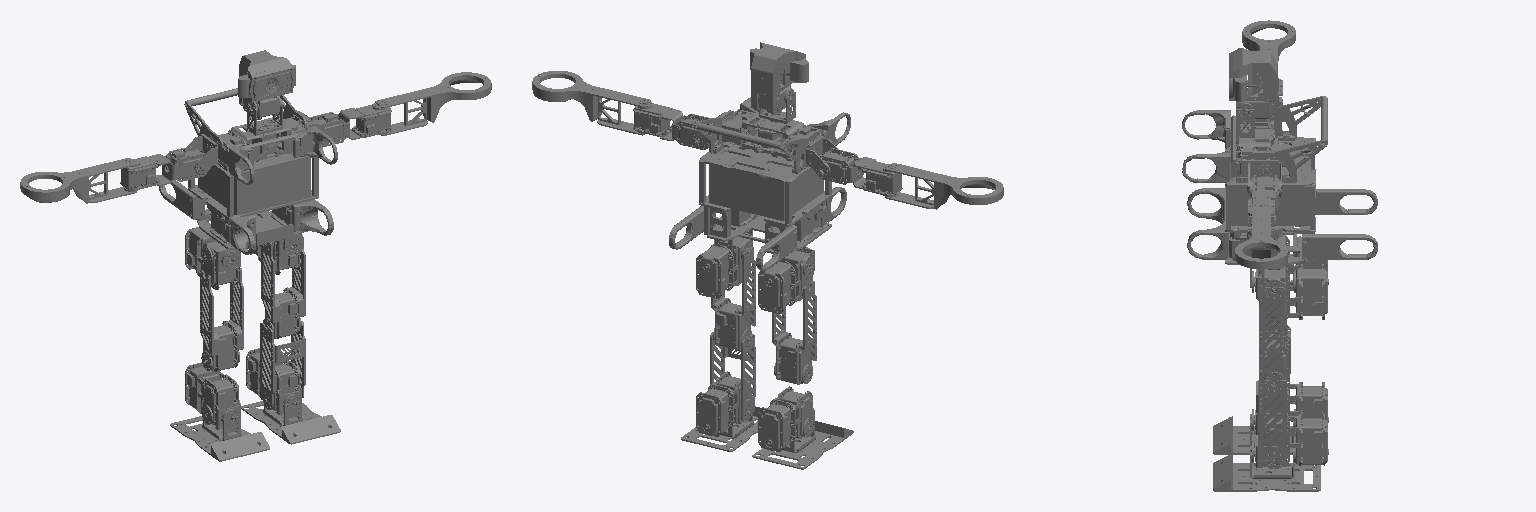
--- Facts derived from the render (not from the file) ---
3 views of the same robot in one strip: view 1: azimuth 30°, elevation 25°; view 2: azimuth 150°, elevation 25°; view 3: azimuth 270°, elevation 25° (orthographic).
Robot: hiro-urdf — 21 links, 20 joints (20 revolute); root link torso_kidsize25; default pose: every joint at zero.
Links seen in each view (by area): view 1: torso_kidsize25, foot_right_2, head, foot_left_2, left_lowerhand, foot_right_4, right_lowerhand, foot_right_5, right_upperhand, foot_left_5, foot_right_1, left_upperhand (+5 smaller); view 2: torso_kidsize25, head, foot_right_2, foot_right_4, left_lowerhand, right_lowerhand, foot_right_1, foot_left_2, right_upperhand, foot_left_4, foot_left_1, left_upperhand (+4 smaller); view 3: torso_kidsize25, head, foot_left_5, foot_left_1, foot_left_4, foot_left_2, foot_left_3, left_lowerhand, foot_right_4, foot_right_5, right_lowerhand, left_upperhand (+1 smaller).
Link boxes in pixels (box(x1,y1,x2,y2)): torso_kidsize25: box(159, 88, 337, 254); foot_right_2: box(200, 268, 243, 371); head: box(238, 50, 295, 119); foot_left_2: box(261, 235, 305, 338); left_lowerhand: box(375, 72, 491, 135); foot_right_4: box(185, 362, 240, 429); right_lowerhand: box(20, 158, 136, 203); foot_right_5: box(170, 416, 269, 461); right_upperhand: box(120, 146, 206, 191); foot_left_5: box(241, 401, 340, 444); foot_right_1: box(185, 227, 240, 289); left_upperhand: box(308, 102, 391, 146); torso_kidsize25: box(669, 97, 850, 270); head: box(750, 42, 808, 115); foot_right_2: box(772, 281, 816, 384); foot_right_4: box(758, 386, 814, 451); left_lowerhand: box(532, 71, 650, 135); right_lowerhand: box(885, 163, 1003, 209); foot_right_1: box(758, 247, 814, 313); foot_left_2: box(711, 245, 755, 350); right_upperhand: box(818, 148, 902, 197); foot_left_4: box(696, 371, 752, 436); foot_left_1: box(696, 233, 752, 298); left_upperhand: box(633, 101, 712, 149); torso_kidsize25: box(1182, 96, 1377, 264); head: box(1229, 48, 1277, 121); foot_left_5: box(1213, 446, 1320, 491); foot_left_1: box(1252, 267, 1328, 320); foot_left_4: box(1251, 413, 1328, 468); foot_left_2: box(1259, 287, 1289, 390); foot_left_3: box(1256, 380, 1286, 462); left_lowerhand: box(1235, 204, 1287, 269); foot_right_4: box(1251, 382, 1328, 434); foot_right_5: box(1213, 414, 1295, 454); right_lowerhand: box(1242, 20, 1295, 63); left_upperhand: box(1247, 175, 1280, 234).
Size in the robot's own frame: 0.7472 by 0.2572 by 0.5814 metres.
Meshes: 21 distinct files referenced, 19 mesh visuals loaded (19 binary STL); not drawn: 2 (reference not matched to a file when rendering).

The robot description file, URDF, robot "hiro-urdf":
<?xml version="1.0" ?>
<!-- Generated using onshape-to-robot -->
<robot name="hiro-urdf">
  <!-- Link torso_kidsize25 -->
  <link name="torso_kidsize25">
    <inertial>
      <origin xyz="-5.43423e-06 -0.0200969 0.0976927" rpy="0 0 0"/>
      <mass value="2.16719"/>
      <inertia ixx="0.00929033" ixy="-9.38024e-07" ixz="8.09787e-07" iyy="0.00982507" iyz="0.000706149" izz="0.00934245"/>
    </inertial>
    <!-- Part mx_64t_mir1 -->
    <collision>
      <origin xyz="0.0495 -0.0149156 0.0445065" rpy="1.14304e-14 2.1517e-13 -6.55847e-15"/>
      <geometry>
        <mesh filename="package://assets/mx_64t_mir1.stl"/>
      </geometry>
    </collision>
    <!-- Part mx_64t -->
    <collision>
      <origin xyz="-0.0495 -0.0149172 0.0445065" rpy="3.14159 -2.15281e-13 3.14159"/>
      <geometry>
        <mesh filename="package://assets/mx_64t.stl"/>
      </geometry>
    </collision>
    <!-- Part mx_28 -->
    <collision>
      <origin xyz="-0.0435004 -0.0845737 0.169212" rpy="-1.5708 -1.5708 0"/>
      <geometry>
        <mesh filename="package://assets/mx_28.stl"/>
      </geometry>
    </collision>
    <!-- Part mx_28_2 -->
    <collision>
      <origin xyz="-0.00781868 0.0207067 0.15592" rpy="-1.5708 -2.14948e-13 3.14159"/>
      <geometry>
        <mesh filename="package://assets/mx_28.stl"/>
      </geometry>
    </collision>
    <!-- Part mx_28_3 -->
    <collision>
      <origin xyz="0.0435004 -0.0845737 0.153401" rpy="-1.5708 1.5708 0"/>
      <geometry>
        <mesh filename="package://assets/mx_28.stl"/>
      </geometry>
    </collision>
    <!-- Part upper_floor -->
    <collision>
      <origin xyz="-0.064378 -0.0627188 0.140507" rpy="-1.5708 1.12084e-14 -1.5708"/>
      <geometry>
        <mesh filename="package://assets/upper_floor.stl"/>
      </geometry>
    </collision>
    <!-- Part 2nd_floor -->
    <collision>
      <origin xyz="0.064378 -0.0627188 0.0715065" rpy="1.5708 -1.14304e-14 1.5708"/>
      <geometry>
        <mesh filename="package://assets/2nd_floor.stl"/>
      </geometry>
    </collision>
    <!-- Part front_pillar -->
    <collision>
      <origin xyz="-0.072 0.0462822 0.0795065" rpy="1.5708 2.1517e-13 -6.55847e-15"/>
      <geometry>
        <mesh filename="package://assets/front_pillar.stl"/>
      </geometry>
    </collision>
    <!-- Part front_pillar_2 -->
    <collision>
      <origin xyz="0.072 0.0392822 0.0795065" rpy="1.5708 -2.1517e-13 3.14159"/>
      <geometry>
        <mesh filename="package://assets/front_pillar.stl"/>
      </geometry>
    </collision>
    <!-- Part front_pillar_3 -->
    <collision>
      <origin xyz="0.072 -0.0707178 0.0795065" rpy="1.5708 -2.15503e-13 3.14159"/>
      <geometry>
        <mesh filename="package://assets/front_pillar.stl"/>
      </geometry>
    </collision>
    <!-- Part front_pillar_4 -->
    <collision>
      <origin xyz="-0.072 -0.0637178 0.132507" rpy="-1.5708 1.09239e-14 -1.5708"/>
      <geometry>
        <mesh filename="package://assets/front_pillar.stl"/>
      </geometry>
    </collision>
    <!-- Part pcnel_exch -->
    <collision>
      <origin xyz="-1.36807e-13 -0.0142178 0.137507" rpy="-1.5708 1.09794e-14 -1.5708"/>
      <geometry>
        <mesh filename="package://assets/pcnel_exch.stl"/>
      </geometry>
    </collision>
    <!-- Part spacer_bracket_id_1_19_2_mir -->
    <collision>
      <origin xyz="0.0366867 -0.0407649 0.158268" rpy="1.5708 -2.15281e-13 3.14159"/>
      <geometry>
        <mesh filename="package://assets/spacer_bracket_id_1_19_2_mir.stl"/>
      </geometry>
    </collision>
    <!-- Part handle_bracket_kidsize -->
    <collision>
      <origin xyz="0.068 0.00858119 0.144507" rpy="-1.5708 1.12084e-14 -1.5708"/>
      <geometry>
        <mesh filename="package://assets/handle_bracket_kidsize.stl"/>
      </geometry>
    </collision>
    <!-- Part almi_5mm_bracket_servo_1_2_left -->
    <collision>
      <origin xyz="0.0411367 -0.0455112 0.163369" rpy="1.5708 -2.15281e-13 3.14159"/>
      <geometry>
        <mesh filename="package://assets/almi_5mm_bracket_servo_1_2_left.stl"/>
      </geometry>
    </collision>
    <!-- Part handle -->
    <collision>
      <origin xyz="1.14631e-14 0.0580812 0.197506" rpy="-3.14159 1.5708 0"/>
      <geometry>
        <mesh filename="package://assets/handle.stl"/>
      </geometry>
    </collision>
    <!-- Part holder_bumper_upper -->
    <collision>
      <origin xyz="-0.0667133 0.0621524 0.213757" rpy="1.5708 -2.15503e-13 3.14159"/>
      <geometry>
        <mesh filename="package://assets/holder_bumper_upper.stl"/>
      </geometry>
    </collision>
    <!-- Part handler_holder_siber -->
    <collision>
      <origin xyz="-0.0585 -0.0594188 0.102506" rpy="1.5708 -1.12084e-14 1.5708"/>
      <geometry>
        <mesh filename="package://assets/handler_holder_siber.stl"/>
      </geometry>
    </collision>
    <!-- Part bracket_1_2_lower_left -->
    <collision>
      <origin xyz="0.0664867 -0.0457677 0.165055" rpy="1.5708 2.15281e-13 -6.33643e-15"/>
      <geometry>
        <mesh filename="package://assets/bracket_1_2_lower_left.stl"/>
      </geometry>
    </collision>
    <!-- Part front_upper_bumper -->
    <collision>
      <origin xyz="-0.0712133 -0.0912838 0.160907" rpy="1.5708 2.15503e-13 -6.33643e-15"/>
      <geometry>
        <mesh filename="package://assets/front_upper_bumper.stl"/>
      </geometry>
    </collision>
    <!-- Part petg_5_19_mx28_seating -->
    <collision>
      <origin xyz="0.0124903 -0.0576838 0.147757" rpy="-1.5708 2.15392e-13 -6.33643e-15"/>
      <geometry>
        <mesh filename="package://assets/petg_5_19_mx28_seating.stl"/>
      </geometry>
    </collision>
    <!-- Part almi_5mm_bracket_servo_1_2 -->
    <collision>
      <origin xyz="-0.0411367 -0.0455112 0.163369" rpy="1.5708 2.15392e-13 -6.33643e-15"/>
      <geometry>
        <mesh filename="package://assets/almi_5mm_bracket_servo_1_2.stl"/>
      </geometry>
    </collision>
    <!-- Part spacer_bracket_id_1_19_2 -->
    <collision>
      <origin xyz="-0.0366867 -0.0407649 0.158268" rpy="1.5708 2.1517e-13 -6.33643e-15"/>
      <geometry>
        <mesh filename="package://assets/spacer_bracket_id_1_19_2.stl"/>
      </geometry>
    </collision>
    <!-- Part handler_holder_siber_2 -->
    <collision>
      <origin xyz="0.0685 -0.0594188 0.102506" rpy="1.5708 -1.12084e-14 1.5708"/>
      <geometry>
        <mesh filename="package://assets/handler_holder_siber.stl"/>
      </geometry>
    </collision>
    <!-- Part front_upper_bumper_mir -->
    <collision>
      <origin xyz="0.0709867 -0.0912838 0.160907" rpy="1.5708 -2.15503e-13 3.14159"/>
      <geometry>
        <mesh filename="package://assets/front_upper_bumper_mir.stl"/>
      </geometry>
    </collision>
    <!-- Part handle_bracket_kidsize_2 -->
    <collision>
      <origin xyz="-0.068 0.00858119 0.144507" rpy="-1.5708 9.8553e-15 -1.5708"/>
      <geometry>
        <mesh filename="package://assets/handle_bracket_kidsize.stl"/>
      </geometry>
    </collision>
    <!-- Part bracket_1_2_lower -->
    <collision>
      <origin xyz="-0.0664867 -0.0457677 0.165055" rpy="1.5708 -2.15281e-13 3.14159"/>
      <geometry>
        <mesh filename="package://assets/bracket_1_2_lower.stl"/>
      </geometry>
    </collision>
    <!-- Part bumper_front_lower_mir -->
    <collision>
      <origin xyz="0.0685 -0.0939156 0.0494707" rpy="1.5708 -2.14948e-13 3.14159"/>
      <geometry>
        <mesh filename="package://assets/bumper_front_lower_mir.stl"/>
      </geometry>
    </collision>
    <!-- Part spacer_106_64_mir2 -->
    <collision>
      <origin xyz="-0.0478366 -0.0405746 0.0615065" rpy="1.5708 -1.5708 0"/>
      <geometry>
        <mesh filename="package://assets/spacer_106_64_mir2.stl"/>
      </geometry>
    </collision>
    <!-- Part holder_lower_bracket_mir -->
    <collision>
      <origin xyz="0.0407975 -0.0654156 0.0911788" rpy="-1.5708 -2.14948e-13 3.14159"/>
      <geometry>
        <mesh filename="package://assets/holder_lower_bracket_mir.stl"/>
      </geometry>
    </collision>
    <!-- Part almi_2mm_floor_2nd__1 -->
    <collision>
      <origin xyz="-0.00365951 -0.0159644 0.0275065" rpy="6.55847e-15 1.5708 0"/>
      <geometry>
        <mesh filename="package://assets/almi_2mm_floor_2nd__1.stl"/>
      </geometry>
    </collision>
    <!-- Part spacer_106_64_mir2_mir -->
    <collision>
      <origin xyz="0.0478366 -0.040573 0.0615065" rpy="-1.5708 -1.5708 0"/>
      <geometry>
        <mesh filename="package://assets/spacer_106_64_mir2_mir.stl"/>
      </geometry>
    </collision>
    <!-- Part back_bumper -->
    <collision>
      <origin xyz="0.0647 0.0287838 0.0485065" rpy="1.5708 -1.14304e-14 1.5708"/>
      <geometry>
        <mesh filename="package://assets/back_bumper.stl"/>
      </geometry>
    </collision>
    <!-- Part xt_bracket -->
    <collision>
      <origin xyz="0.0308 0.0417838 0.0275065" rpy="-1.14304e-14 -2.15281e-13 3.14159"/>
      <geometry>
        <mesh filename="package://assets/xt_bracket.stl"/>
      </geometry>
    </collision>
    <!-- Part battery_holder -->
    <collision>
      <origin xyz="6.3411e-10 -0.0702162 0.0225065" rpy="1.5708 -1.14304e-14 1.5708"/>
      <geometry>
        <mesh filename="package://assets/battery_holder.stl"/>
      </geometry>
    </collision>
    <!-- Part back_bumper_2 -->
    <collision>
      <origin xyz="-0.0647 0.0287838 0.0485065" rpy="-1.5708 -1.14304e-14 1.5708"/>
      <geometry>
        <mesh filename="package://assets/back_bumper.stl"/>
      </geometry>
    </collision>
    <!-- Part bracket_back_bumper -->
    <collision>
      <origin xyz="0.0452 0.0307838 0.0495065" rpy="1.5708 -2.15281e-13 3.14159"/>
      <geometry>
        <mesh filename="package://assets/bracket_back_bumper.stl"/>
      </geometry>
    </collision>
    <!-- Part holder_lower_bracket -->
    <collision>
      <origin xyz="-0.0407975 -0.0654172 0.0911788" rpy="-1.5708 2.15281e-13 -6.55847e-15"/>
      <geometry>
        <mesh filename="package://assets/holder_lower_bracket.stl"/>
      </geometry>
    </collision>
    <!-- Part xt_bracket_2 -->
    <collision>
      <origin xyz="-0.0308 0.0377838 0.0275065" rpy="1.14304e-14 2.1517e-13 -6.55847e-15"/>
      <geometry>
        <mesh filename="package://assets/xt_bracket.stl"/>
      </geometry>
    </collision>
    <!-- Part bumper_front_lower -->
    <collision>
      <origin xyz="-0.0685 -0.0939172 0.0494707" rpy="1.5708 2.15281e-13 -6.55847e-15"/>
      <geometry>
        <mesh filename="package://assets/bumper_front_lower.stl"/>
      </geometry>
    </collision>
    <!-- Part bracket_back_bumper_mir -->
    <collision>
      <origin xyz="-0.0452 0.0307838 0.0495065" rpy="1.5708 2.1517e-13 -6.50154e-15"/>
      <geometry>
        <mesh filename="package://assets/bracket_back_bumper_mir.stl"/>
      </geometry>
    </collision>
    <!-- Part torso_kidsize25_parts -->
    <visual>
      <origin xyz="-5.43423e-06 -0.0200969 0.0976927" rpy="0 -0 0"/>
      <geometry>
        <mesh filename="package://assets/merged/torso_kidsize25_visual.stl"/>
      </geometry>
      <material name="torso_kidsize25_parts_material">
        <color rgba="0.55972 0.560028 0.558638 1"/>
      </material>
    </visual>
  </link>
  <!-- Link neck -->
  <link name="neck">
    <inertial>
      <origin xyz="2.39298e-07 1.20831e-17 0.00879985" rpy="0 0 0"/>
      <mass value="0.0128985"/>
      <inertia ixx="5.01235e-06" ixy="2.63324e-11" ixz="-9.38605e-13" iyy="2.39998e-06" iyz="1.16467e-21" izz="4.13467e-06"/>
    </inertial>
    <!-- Part almi_4mm_neck_bracket -->
    <collision>
      <origin xyz="0.0128945 -0.0185 0" rpy="1.5708 -0 -6.26583e-31"/>
      <geometry>
        <mesh filename="package://assets/almi_4mm_neck_bracket.stl"/>
      </geometry>
    </collision>
    <!-- Part carbon_2mm_neck_side_plate -->
    <collision>
      <origin xyz="5e-07 -0.0205 0.02" rpy="1.5708 -2.36658e-29 4.27969e-30"/>
      <geometry>
        <mesh filename="package://assets/carbon_2mm_neck_side_plate.stl"/>
      </geometry>
    </collision>
    <!-- Part carbon_2mm_neck_side_plate_2 -->
    <collision>
      <origin xyz="-2.77556e-17 0.0225 0.02" rpy="1.5708 -4.73317e-30 -1.0266e-29"/>
      <geometry>
        <mesh filename="package://assets/carbon_2mm_neck_side_plate.stl"/>
      </geometry>
    </collision>
    <!-- Part neck_parts -->
    <visual>
      <origin xyz="2.39298e-07 1.48807e-17 0.00879985" rpy="-1.12084e-14 -2.15281e-13 -1.5708"/>
      <geometry>
        <mesh filename="package://assets/merged/neck_visual.stl"/>
      </geometry>
      <material name="neck_parts_material">
        <color rgba="0.55972 0.560028 0.558638 1"/>
      </material>
    </visual>
  </link>
  <!-- Link head -->
  <link name="head">
    <inertial>
      <origin xyz="0.0315459 -0.00214801 0.0205645" rpy="0 0 0"/>
      <mass value="0.371554"/>
      <inertia ixx="0.000238323" ixy="4.47308e-05" ixz="-2.28198e-07" iyy="0.000308835" iyz="-2.79152e-07" izz="0.000217343"/>
    </inertial>
    <!-- Part petg_2mm_headbracket_old -->
    <collision>
      <origin xyz="-0.0064 0.0265 0.0386" rpy="1.5708 1.5708 0"/>
      <geometry>
        <mesh filename="package://assets/petg_2mm_headbracket_old.stl"/>
      </geometry>
    </collision>
    <!-- Part camera_logitech_c920_offset_2mm -->
    <collision>
      <origin xyz="0.0256 0.00182638 0.06759" rpy="1.5708 1.5708 0"/>
      <geometry>
        <mesh filename="package://assets/camera_logitech_c920_offset_2mm.stl"/>
      </geometry>
    </collision>
    <!-- Part camera_frame -->
    <collision>
      <origin xyz="0.0251 -0.0215 0.0535485" rpy="3.14159 1.3375e-27 1.5708"/>
      <geometry>
        <mesh filename="package://assets/camera_frame.stl"/>
      </geometry>
    </collision>
    <!-- Part mx_28_4 -->
    <collision>
      <origin xyz="0.0079054 0.0653899 0.0287863" rpy="1.5708 2.68506e-30 -4.03675e-31"/>
      <geometry>
        <mesh filename="package://assets/mx_28.stl"/>
      </geometry>
    </collision>
    <!-- Part petg_2mm_rotatingheadbracket -->
    <collision>
      <origin xyz="-0.0064 0.0265 0.0386" rpy="1.5708 1.5708 0"/>
      <geometry>
        <mesh filename="package://assets/petg_2mm_rotatingheadbracket.stl"/>
      </geometry>
    </collision>
    <!-- Part head_parts -->
    <visual>
      <origin xyz="0.0315459 -0.00214801 0.0205645" rpy="-5.50254e-14 1.5708 0"/>
      <geometry>
        <mesh filename="package://assets/merged/head_visual.stl"/>
      </geometry>
      <material name="head_parts_material">
        <color rgba="0.55972 0.560028 0.558638 1"/>
      </material>
    </visual>
  </link>
  <!-- Joint from neck to head -->
  <joint name="neck_pitch" type="revolute">
    <origin xyz="5e-07 -0.0205 0.037" rpy="-1.5708 -1.5708 0"/>
    <parent link="neck"/>
    <child link="head"/>
    <axis xyz="0 0 1"/>
    <limit effort="6" velocity="6.6" lower="-1.5708" upper="0.392699"/>
    <joint_properties friction="0.1"/>
  </joint>
  <!-- Joint from torso_kidsize25 to neck -->
  <joint name="neck_yaw" type="revolute">
    <origin xyz="8.67185e-05 -0.0446832 0.184707" rpy="2.15281e-13 -1.12084e-14 1.5708"/>
    <parent link="torso_kidsize25"/>
    <child link="neck"/>
    <axis xyz="0 0 1"/>
    <limit effort="6" velocity="6.6" lower="-3.14159" upper="3.14159"/>
    <joint_properties friction="0.1"/>
  </joint>
  <!-- Link almi2_view_6_7__arm_bracket -->
  <link name="almi2_view_6_7__arm_bracket">
    <inertial>
      <origin xyz="-9.36751e-17 0.00223841 -0.00829596" rpy="0 0 0"/>
      <mass value="0.0151289"/>
      <inertia ixx="2.57897e-06" ixy="3.24106e-38" ixz="6.75078e-37" iyy="5.57377e-06" iyz="4.04961e-07" izz="5.85595e-06"/>
    </inertial>
    <!-- Part almi2_view_6_7__arm_bracket -->
    <collision>
      <origin xyz="0.0185 -0.012 -0.002" rpy="1.5708 -8.00338e-32 0"/>
      <geometry>
        <mesh filename="package://assets/almi2_view_6_7__arm_bracket.stl"/>
      </geometry>
    </collision>
    <!-- Part almi2_view_6_7__arm_bracket_parts -->
    <visual>
      <origin xyz="-9.71445e-17 0.00223841 -0.00829596" rpy="1.5708 -1.5708 0"/>
      <geometry>
        <mesh filename="package://assets/merged/almi2_view_6_7__arm_bracket_visual.stl"/>
      </geometry>
      <material name="almi2_view_6_7__arm_bracket_parts_material">
        <color rgba="0.55972 0.560028 0.558638 1"/>
      </material>
    </visual>
  </link>
  <!-- Link right_upperhand -->
  <link name="right_upperhand">
    <inertial>
      <origin xyz="-4.16556e-05 -0.0497057 -0.0229115" rpy="0 0 0"/>
      <mass value="0.178"/>
      <inertia ixx="0.000293103" ixy="-7.35413e-07" ixz="-2.0111e-08" iyy="3.4849e-05" iyz="-1.67161e-05" izz="0.00029267"/>
    </inertial>
    <!-- Part mx_28_5 -->
    <collision>
      <origin xyz="0.00818918 -0.0341201 -0.0335054" rpy="1.5708 1.5708 0"/>
      <geometry>
        <mesh filename="package://assets/mx_28.stl"/>
      </geometry>
    </collision>
    <!-- Part mx_28_6 -->
    <collision>
      <origin xyz="0.0079054 -0.0653899 -0.0287863" rpy="-1.5708 -0 0"/>
      <geometry>
        <mesh filename="package://assets/mx_28.stl"/>
      </geometry>
    </collision>
    <!-- Part almi2_view_13__14__arm -->
    <collision>
      <origin xyz="-0.0819971 -0.058605 -0.0256" rpy="-1.11022e-16 -1.11022e-16 5.91311e-27"/>
      <geometry>
        <mesh filename="package://assets/almi2_view_13__14__arm.stl"/>
      </geometry>
    </collision>
    <!-- Part right_upperhand_parts -->
    <visual>
      <origin xyz="-4.16556e-05 -0.0497057 -0.0229115" rpy="-1.5708 6.44745e-15 1.5708"/>
      <geometry>
        <mesh filename="package://assets/merged/right_upperhand_visual.stl"/>
      </geometry>
      <material name="right_upperhand_parts_material">
        <color rgba="0.55972 0.560028 0.558638 1"/>
      </material>
    </visual>
  </link>
  <!-- Link right_lowerhand -->
  <link name="right_lowerhand">
    <inertial>
      <origin xyz="-0.00130389 -0.103918 0.0103596" rpy="0 0 0"/>
      <mass value="0.149258"/>
      <inertia ixx="0.000225269" ixy="-7.02224e-06" ixz="-1.20544e-07" iyy="5.61474e-05" iyz="-3.26703e-05" izz="0.000240431"/>
    </inertial>
    <!-- Part almi_4_5mm_connector_lower_arm_kidsize -->
    <collision>
      <origin xyz="0.00225 -0.0405 0" rpy="1.5708 1.11022e-16 -3.14159"/>
      <geometry>
        <mesh filename="package://assets/almi_4_5mm_connector_lower_arm_kidsize.stl"/>
      </geometry>
    </collision>
    <!-- Part carbon_2mm_arm_kidsize_1 -->
    <collision>
      <origin xyz="0 0 0" rpy="1.5708 1.5708 0"/>
      <geometry>
        <mesh filename="package://assets/carbon_2mm_arm_kidsize_1.stl"/>
      </geometry>
    </collision>
    <!-- Part tpu_arm_kidsize_telapak -->
    <collision>
      <origin xyz="2.60209e-17 -0.14 0.0728" rpy="1.5708 -1.11022e-16 4.9013e-29"/>
      <geometry>
        <mesh filename="package://assets/tpu_arm_kidsize_telapak.stl"/>
      </geometry>
    </collision>
    <!-- Part carbon_2mm_arm_kidsize_2 -->
    <collision>
      <origin xyz="2.94903e-17 8.32667e-17 0.043" rpy="-4.85829e-29 1.5708 0"/>
      <geometry>
        <mesh filename="package://assets/carbon_2mm_arm_kidsize_2.stl"/>
      </geometry>
    </collision>
    <!-- Part right_lowerhand_parts -->
    <visual>
      <origin xyz="-0.00130389 -0.103918 0.0103596" rpy="3.14159 8.42749e-14 1.5708"/>
      <geometry>
        <mesh filename="package://assets/merged/right_lowerhand_visual.stl"/>
      </geometry>
      <material name="right_lowerhand_parts_material">
        <color rgba="0.55972 0.560028 0.558638 1"/>
      </material>
    </visual>
  </link>
  <!-- Joint from right_upperhand to right_lowerhand -->
  <joint name="right_elbow" type="revolute">
    <origin xyz="-0.0205971 -0.09951 -0.0256" rpy="-5.89437e-27 1.5708 0"/>
    <parent link="right_upperhand"/>
    <child link="right_lowerhand"/>
    <axis xyz="0 0 1"/>
    <limit effort="6" velocity="6.6" lower="-2.35619" upper="2.35619"/>
    <joint_properties friction="0.1"/>
  </joint>
  <!-- Joint from almi2_view_6_7__arm_bracket to right_upperhand -->
  <joint name="right_shoulder_roll" type="revolute">
    <origin xyz="0.0205 0.0147498 -0.0268034" rpy="1.5708 -1.30895e-13 1.5708"/>
    <parent link="almi2_view_6_7__arm_bracket"/>
    <child link="right_upperhand"/>
    <axis xyz="0 0 1"/>
    <limit effort="6" velocity="6.6" lower="-0.785398" upper="2.35619"/>
    <joint_properties friction="0.1"/>
  </joint>
  <!-- Joint from torso_kidsize25 to almi2_view_6_7__arm_bracket -->
  <joint name="right_shoulder_pitch" type="revolute">
    <origin xyz="-0.0722867 -0.0191838 0.161307" rpy="-1.5708 1.08614e-14 -1.5708"/>
    <parent link="torso_kidsize25"/>
    <child link="almi2_view_6_7__arm_bracket"/>
    <axis xyz="0 0 1"/>
    <limit effort="6" velocity="6.6" lower="-3.14159" upper="3.14159"/>
    <joint_properties friction="0.1"/>
  </joint>
  <!-- Link almi2_view_6_7__arm_bracket_2 -->
  <link name="almi2_view_6_7__arm_bracket_2">
    <inertial>
      <origin xyz="-1.00614e-16 -0.00223841 0.00829596" rpy="0 0 0"/>
      <mass value="0.0151289"/>
      <inertia ixx="2.57897e-06" ixy="-1.13759e-37" ixz="-2.36947e-36" iyy="5.57377e-06" iyz="4.04961e-07" izz="5.85595e-06"/>
    </inertial>
    <!-- Part almi2_view_6_7__arm_bracket_2 -->
    <collision>
      <origin xyz="0.0185 0.012 0.002" rpy="-1.5708 2.80912e-31 0"/>
      <geometry>
        <mesh filename="package://assets/almi2_view_6_7__arm_bracket.stl"/>
      </geometry>
    </collision>
    <!-- Part almi2_view_6_7__arm_bracket_2_parts -->
    <visual>
      <origin xyz="-1.04083e-16 -0.00223841 0.00829596" rpy="-1.5708 -1.5708 0"/>
      <geometry>
        <mesh filename="package://assets/merged/almi2_view_6_7__arm_bracket_2_visual.stl"/>
      </geometry>
      <material name="almi2_view_6_7__arm_bracket_2_parts_material">
        <color rgba="0.55972 0.560028 0.558638 1"/>
      </material>
    </visual>
  </link>
  <!-- Link left_upperhand -->
  <link name="left_upperhand">
    <inertial>
      <origin xyz="-0.0497057 -4.16564e-05 -0.0182021" rpy="0 0 0"/>
      <mass value="0.178"/>
      <inertia ixx="3.47766e-05" ixy="-7.35406e-07" ixz="1.52286e-05" iyy="0.00029303" iyz="1.94701e-08" izz="0.00029267"/>
    </inertial>
    <!-- Part mx_28_7 -->
    <collision>
      <origin xyz="-0.0341201 0.00818918 -0.0076946" rpy="1.18905e-13 -1.5708 0"/>
      <geometry>
        <mesh filename="package://assets/mx_28.stl"/>
      </geometry>
    </collision>
    <!-- Part almi2_view_13__14__arm_2 -->
    <collision>
      <origin xyz="-0.058605 -0.0819971 -0.0156" rpy="3.14159 3.33067e-16 1.5708"/>
      <geometry>
        <mesh filename="package://assets/almi2_view_13__14__arm.stl"/>
      </geometry>
    </collision>
    <!-- Part mx_28_8 -->
    <collision>
      <origin xyz="-0.0653899 -0.0079054 -0.0287863" rpy="-1.5708 1.11022e-16 -1.5708"/>
      <geometry>
        <mesh filename="package://assets/mx_28.stl"/>
      </geometry>
    </collision>
    <!-- Part left_upperhand_parts -->
    <visual>
      <origin xyz="-0.0497057 -4.16564e-05 -0.0182021" rpy="-1.5708 6.33643e-15 -3.14159"/>
      <geometry>
        <mesh filename="package://assets/merged/left_upperhand_visual.stl"/>
      </geometry>
      <material name="left_upperhand_parts_material">
        <color rgba="0.55972 0.560028 0.558638 1"/>
      </material>
    </visual>
  </link>
  <!-- Link left_lowerhand -->
  <link name="left_lowerhand">
    <inertial>
      <origin xyz="-0.00130389 0.103918 -0.0103596" rpy="0 0 0"/>
      <mass value="0.149258"/>
      <inertia ixx="0.000225269" ixy="7.02224e-06" ixz="1.20544e-07" iyy="5.61474e-05" iyz="-3.26703e-05" izz="0.000240431"/>
    </inertial>
    <!-- Part carbon_2mm_arm_kidsize_1_2 -->
    <collision>
      <origin xyz="-2.08167e-17 2.77556e-17 8.32667e-17" rpy="-1.5708 -1.5708 0"/>
      <geometry>
        <mesh filename="package://assets/carbon_2mm_arm_kidsize_1.stl"/>
      </geometry>
    </collision>
    <!-- Part tpu_arm_kidsize_telapak_2 -->
    <collision>
      <origin xyz="5.89806e-17 0.14 -0.0728" rpy="-1.5708 1.11022e-16 -7.07767e-16"/>
      <geometry>
        <mesh filename="package://assets/tpu_arm_kidsize_telapak.stl"/>
      </geometry>
    </collision>
    <!-- Part almi_4_5mm_connector_lower_arm_kidsize_2 -->
    <collision>
      <origin xyz="0.00225 0.0405 -5.55112e-17" rpy="-1.5708 -1.11022e-16 3.14159"/>
      <geometry>
        <mesh filename="package://assets/almi_4_5mm_connector_lower_arm_kidsize.stl"/>
      </geometry>
    </collision>
    <!-- Part carbon_2mm_arm_kidsize_2_2 -->
    <collision>
      <origin xyz="-1.21431e-16 5.55112e-17 -0.043" rpy="3.14159 -1.5708 0"/>
      <geometry>
        <mesh filename="package://assets/carbon_2mm_arm_kidsize_2.stl"/>
      </geometry>
    </collision>
    <!-- Part left_lowerhand_parts -->
    <visual>
      <origin xyz="-0.00130389 0.103918 -0.0103596" rpy="-1.05839e-14 -9.63764e-14 1.5708"/>
      <geometry>
        <mesh filename="package://assets/merged/left_lowerhand_visual.stl"/>
      </geometry>
      <material name="left_lowerhand_parts_material">
        <color rgba="0.55972 0.560028 0.558638 1"/>
      </material>
    </visual>
  </link>
  <!-- Joint from left_upperhand to left_lowerhand -->
  <joint name="left_elbow" type="revolute">
    <origin xyz="-0.09951 -0.0205971 -0.0156" rpy="1.5708 -1.5708 0"/>
    <parent link="left_upperhand"/>
    <child link="left_lowerhand"/>
    <axis xyz="0 0 1"/>
    <limit effort="6" velocity="6.6" lower="-2.35619" upper="2.35619"/>
    <joint_properties friction="0.1"/>
  </joint>
  <!-- Joint from almi2_view_6_7__arm_bracket_2 to left_upperhand -->
  <joint name="left_shoulder_roll" type="revolute">
    <origin xyz="-0.0205 -0.0147498 0.0268034" rpy="-3.14159 1.5708 0"/>
    <parent link="almi2_view_6_7__arm_bracket_2"/>
    <child link="left_upperhand"/>
    <axis xyz="0 0 1"/>
    <limit effort="6" velocity="6.6" lower="-2.35619" upper="0.785398"/>
    <joint_properties friction="0.1"/>
  </joint>
  <!-- Joint from torso_kidsize25 to almi2_view_6_7__arm_bracket_2 -->
  <joint name="left_shoulder_pitch" type="revolute">
    <origin xyz="0.0722867 -0.0191838 0.161307" rpy="1.5708 -1.05839e-14 1.5708"/>
    <parent link="torso_kidsize25"/>
    <child link="almi2_view_6_7__arm_bracket_2"/>
    <axis xyz="0 0 1"/>
    <limit effort="6" velocity="6.6" lower="-3.14159" upper="3.14159"/>
    <joint_properties friction="0.1"/>
  </joint>
  <!-- Link stainless_steel_2mm_upper_leg_bracket -->
  <link name="stainless_steel_2mm_upper_leg_bracket">
    <inertial>
      <origin xyz="-0.00421162 -1.80642e-07 -0.00839045" rpy="0 0 0"/>
      <mass value="0.0521561"/>
      <inertia ixx="1.13163e-05" ixy="-2.66522e-10" ixz="-2.03733e-07" iyy="2.97089e-05" iyz="3.66542e-11" izz="2.98236e-05"/>
    </inertial>
    <!-- Part stainless_steel_2mm_upper_leg_bracket -->
    <collision>
      <origin xyz="-0.03298 0.016 0" rpy="3.14159 -0 2.99322e-31"/>
      <geometry>
        <mesh filename="package://assets/stainless_steel_2mm_upper_leg_bracket.stl"/>
      </geometry>
    </collision>
    <!-- Part stainless_steel_2mm_upper_leg_bracket_parts -->
    <visual>
      <origin xyz="-0.00421162 -1.80642e-07 -0.00839045" rpy="-1.14304e-14 -2.15281e-13 1.5708"/>
      <geometry>
        <mesh filename="package://assets/merged/stainless_steel_2mm_upper_leg_bracket_visual.stl"/>
      </geometry>
      <material name="stainless_steel_2mm_upper_leg_bracket_parts_material">
        <color rgba="0.55972 0.560028 0.558638 1"/>
      </material>
    </visual>
  </link>
  <!-- Link foot_right_1 -->
  <link name="foot_right_1">
    <inertial>
      <origin xyz="-0.000121825 -0.0144674 0.00397654" rpy="0 0 0"/>
      <mass value="0.292396"/>
      <inertia ixx="0.000302471" ixy="-1.95767e-07" ixz="7.69534e-07" iyy="0.00026243" iyz="-1.25976e-05" izz="0.000113113"/>
    </inertial>
    <!-- Part mx_64t_2 -->
    <collision>
      <origin xyz="6.93889e-18 0 -0.0235" rpy="0 3.82774e-32 0"/>
      <geometry>
        <mesh filename="package://assets/mx_64t_2.stl"/>
      </geometry>
    </collision>
    <!-- Part almi_2mm_fr05_f101k_set -->
    <collision>
      <origin xyz="-1.38778e-17 -5.37764e-17 0.04958" rpy="-1.5708 -9.12541e-28 1.5708"/>
      <geometry>
        <mesh filename="package://assets/almi_2mm_fr05_f101k_set.stl"/>
      </geometry>
    </collision>
    <!-- Part almi_2mm_connector_mx64 -->
    <collision>
      <origin xyz="-0.019 -0.043 0.01058" rpy="-1.28509e-27 -6.31089e-30 -1.5708"/>
      <geometry>
        <mesh filename="package://assets/almi_2mm_connector_mx64.stl"/>
      </geometry>
    </collision>
    <!-- Part almi_2mm_connector_mx64_2 -->
    <collision>
      <origin xyz="0.019 -0.015 0.01058" rpy="1.29061e-27 6.31089e-30 1.5708"/>
      <geometry>
        <mesh filename="package://assets/almi_2mm_connector_mx64.stl"/>
      </geometry>
    </collision>
    <!-- Part fr05_f101k_set -->
    <collision>
      <origin xyz="-2.91434e-16 0 0.04938" rpy="-2.22045e-16 9.12541e-28 -1.5708"/>
      <geometry>
        <mesh filename="package://assets/fr05_f101k_set.stl"/>
      </geometry>
    </collision>
    <!-- Part mx_64t_2_2 -->
    <collision>
      <origin xyz="1.38778e-17 -5.0307e-17 0.02558" rpy="1.89327e-27 1.5708 0"/>
      <geometry>
        <mesh filename="package://assets/mx_64t_2.stl"/>
      </geometry>
    </collision>
    <!-- Part mf128zz_1 -->
    <collision>
      <origin xyz="-2.77556e-16 -1.73472e-18 0.0516" rpy="1.5708 -9.11615e-28 1.5708"/>
      <geometry>
        <mesh filename="package://assets/mf128zz_1.stl"/>
      </geometry>
    </collision>
    <!-- Part rx64_cap_1 -->
    <collision>
      <origin xyz="-2.56739e-16 1.04083e-17 0.05508" rpy="2.22045e-16 -8.99919e-28 1.5708"/>
      <geometry>
        <mesh filename="package://assets/rx64_cap_1.stl"/>
      </geometry>
    </collision>
    <!-- Part hn05_i101_1 -->
    <collision>
      <origin xyz="-2.56739e-16 -1.56125e-17 0.05532" rpy="1.5708 -9.04035e-28 1.5708"/>
      <geometry>
        <mesh filename="package://assets/hn05_i101_1.stl"/>
      </geometry>
    </collision>
    <!-- Part rx64_cap_1_2 -->
    <collision>
      <origin xyz="-0.0232 -5.37764e-17 0.02558" rpy="-3.14159 1.5708 0"/>
      <geometry>
        <mesh filename="package://assets/rx64_cap_1.stl"/>
      </geometry>
    </collision>
    <!-- Part hn05_i101_1_2 -->
    <collision>
      <origin xyz="-0.02344 -4.85723e-17 0.02558" rpy="-1.5708 1.5708 0"/>
      <geometry>
        <mesh filename="package://assets/hn05_i101_1.stl"/>
      </geometry>
    </collision>
    <!-- Part mf128zz_1_2 -->
    <collision>
      <origin xyz="-0.01972 -3.81639e-17 0.02558" rpy="-1.5708 1.5708 0"/>
      <geometry>
        <mesh filename="package://assets/mf128zz_1.stl"/>
      </geometry>
    </collision>
    <!-- Part foot_right_1_parts -->
    <visual>
      <origin xyz="-0.000121825 -0.0144674 0.00397654" rpy="-1.5708 5.82295e-15 9.22685e-14"/>
      <geometry>
        <mesh filename="package://assets/merged/foot_right_1_visual.stl"/>
      </geometry>
      <material name="foot_right_1_parts_material">
        <color rgba="0.55972 0.560028 0.558638 1"/>
      </material>
    </visual>
  </link>
  <!-- Link foot_right_2 -->
  <link name="foot_right_2">
    <inertial>
      <origin xyz="0.00189202 0.0890217 -0.0236304" rpy="0 0 0"/>
      <mass value="0.273181"/>
      <inertia ixx="0.00054925" ixy="3.23355e-06" ixz="-6.73937e-08" iyy="0.000131243" iyz="8.86444e-07" izz="0.000472641"/>
    </inertial>
    <!-- Part stainless_steel_2mm__femur -->
    <collision>
      <origin xyz="-0.014 0.07746 -0.047" rpy="-1.5708 8.32667e-17 4.85723e-17"/>
      <geometry>
        <mesh filename="package://assets/stainless_steel_2mm__femur.stl"/>
      </geometry>
    </collision>
    <!-- Part stainless_steel_2mm__femur_2 -->
    <collision>
      <origin xyz="-0.014 0.07746 0.003" rpy="-1.5708 -8.73155e-32 0"/>
      <geometry>
        <mesh filename="package://assets/stainless_steel_2mm__femur.stl"/>
      </geometry>
    </collision>
    <!-- Part almi_6_5mm_l_mx64 -->
    <collision>
      <origin xyz="-0.0134121 0.0859 -0.047" rpy="1.5708 -2.77556e-16 -3.14159"/>
      <geometry>
        <mesh filename="package://assets/almi_6_5mm_l_mx64.stl"/>
      </geometry>
    </collision>
    <!-- Part almi_6_5mm_l_mx64_2 -->
    <collision>
      <origin xyz="-0.0134121 0.0859 -0.0065" rpy="1.5708 -7.21645e-16 -3.14159"/>
      <geometry>
        <mesh filename="package://assets/almi_6_5mm_l_mx64.stl"/>
      </geometry>
    </collision>
    <!-- Part mx_64t_1 -->
    <collision>
      <origin xyz="-6.45317e-16 0.134 -0.0235" rpy="2.08167e-16 7.21645e-16 6.52256e-16"/>
      <geometry>
        <mesh filename="package://assets/mx_64t_1.stl"/>
      </geometry>
    </collision>
    <!-- Part hn05_i101 -->
    <collision>
      <origin xyz="-5.91541e-16 0.134 -0.04694" rpy="-1.5708 8.88178e-16 1.5708"/>
      <geometry>
        <mesh filename="package://assets/hn05_i101.stl"/>
      </geometry>
    </collision>
    <!-- Part mf128zz -->
    <collision>
      <origin xyz="-6.13225e-16 0.134 -0.04322" rpy="-1.5708 9.15934e-16 1.5708"/>
      <geometry>
        <mesh filename="package://assets/mf128zz.stl"/>
      </geometry>
    </collision>
    <!-- Part rx64_cap -->
    <collision>
      <origin xyz="-6.21031e-16 0.134 -0.0467" rpy="-3.14159 -2.08167e-16 1.5708"/>
      <geometry>
        <mesh filename="package://assets/rx64_cap.stl"/>
      </geometry>
    </collision>
    <!-- Part foot_right_2_parts -->
    <visual>
      <origin xyz="0.00189202 0.0890217 -0.0236304" rpy="1.5708 -1.5708 0"/>
      <geometry>
        <mesh filename="package://assets/merged/foot_right_2_visual.stl"/>
      </geometry>
      <material name="foot_right_2_parts_material">
        <color rgba="0.55972 0.560028 0.558638 1"/>
      </material>
    </visual>
  </link>
  <!-- Link foot_right_3 -->
  <link name="foot_right_3">
    <inertial>
      <origin xyz="0.00350206 0.0535427 -0.0235017" rpy="0 0 0"/>
      <mass value="0.157154"/>
      <inertia ixx="0.000266743" ixy="8.33375e-06" ixz="5.26492e-09" iyy="0.000115972" iyz="-6.48605e-09" izz="0.000200186"/>
    </inertial>
    <!-- Part stainless_steel_2mm_leg_spacer -->
    <collision>
      <origin xyz="0.024 0.0190814 -0.045" rpy="-9.76083e-30 -2.22045e-16 1.5708"/>
      <geometry>
        <mesh filename="package://assets/stainless_steel_2mm_leg_spacer.stl"/>
      </geometry>
    </collision>
    <!-- Part stainless_steel_2mm_shinebone -->
    <collision>
      <origin xyz="0.0135 0.0197269 -0.05" rpy="1.5708 5.55112e-16 3.1225e-16"/>
      <geometry>
        <mesh filename="package://assets/stainless_steel_2mm_shinebone.stl"/>
      </geometry>
    </collision>
    <!-- Part stainless_steel_2mm_shinebone_2 -->
    <collision>
      <origin xyz="0.0135 0.0197269 0" rpy="1.5708 3.69832e-31 0"/>
      <geometry>
        <mesh filename="package://assets/stainless_steel_2mm_shinebone.stl"/>
      </geometry>
    </collision>
    <!-- Part foot_right_3_parts -->
    <visual>
      <origin xyz="0.00350206 0.0535427 -0.0235017" rpy="1.5708 -1.5708 0"/>
      <geometry>
        <mesh filename="package://assets/merged/foot_right_3_visual.stl"/>
      </geometry>
      <material name="foot_right_3_parts_material">
        <color rgba="0.55972 0.560028 0.558638 1"/>
      </material>
    </visual>
  </link>
  <!-- Link foot_right_4 -->
  <link name="foot_right_4">
    <inertial>
      <origin xyz="-0.0215978 -0.0144558 -0.0236219" rpy="0 0 0"/>
      <mass value="0.292143"/>
      <inertia ixx="0.000112946" ixy="-1.25976e-05" ixz="7.69336e-07" iyy="0.000262476" iyz="-2.05088e-07" izz="0.000302507"/>
    </inertial>
    <!-- Part mx_64t_3 -->
    <collision>
      <origin xyz="-0.04908 0 -0.0235" rpy="-1.18472e-29 1.5708 0"/>
      <geometry>
        <mesh filename="package://assets/mx_64t_3.stl"/>
      </geometry>
    </collision>
    <!-- Part fr05_f101k_set_1 -->
    <collision>
      <origin xyz="0.024 -4.58208e-05 -0.0235" rpy="-1.5708 2.04415e-29 -1.5708"/>
      <geometry>
        <mesh filename="package://assets/fr05_f101k_set_1.stl"/>
      </geometry>
    </collision>
    <!-- Part almi_2mm_connector_mx64_1 -->
    <collision>
      <origin xyz="-0.015 -0.015 -0.0425" rpy="1.5708 2.31994e-28 1.5708"/>
      <geometry>
        <mesh filename="package://assets/almi_2mm_connector_mx64_1.stl"/>
      </geometry>
    </collision>
    <!-- Part almi_2mm_connector_mx64_1_2 -->
    <collision>
      <origin xyz="-0.015 -0.043 -0.0045" rpy="-1.5708 2.04415e-29 -1.5708"/>
      <geometry>
        <mesh filename="package://assets/almi_2mm_connector_mx64_1.stl"/>
      </geometry>
    </collision>
    <!-- Part mx_64t_3_2 -->
    <collision>
      <origin xyz="0 0 -0.0235" rpy="4.80204e-30 -2.18676e-31 -7.74535e-31"/>
      <geometry>
        <mesh filename="package://assets/mx_64t_3.stl"/>
      </geometry>
    </collision>
    <!-- Part almi_2mm_fr05_f101k_set_1 -->
    <collision>
      <origin xyz="0.024 0 -0.0235" rpy="-2.22045e-16 -2.04415e-29 1.5708"/>
      <geometry>
        <mesh filename="package://assets/almi_2mm_fr05_f101k_set_1.stl"/>
      </geometry>
    </collision>
    <!-- Part hn05_i101_2 -->
    <collision>
      <origin xyz="4.25007e-17 0 -0.04694" rpy="-1.5708 2.91434e-16 7.63278e-17"/>
      <geometry>
        <mesh filename="package://assets/hn05_i101_2.stl"/>
      </geometry>
    </collision>
    <!-- Part mf128zz_2 -->
    <collision>
      <origin xyz="1.82146e-17 -5.55112e-17 -0.04322" rpy="-1.5708 2.08167e-16 1.80411e-16"/>
      <geometry>
        <mesh filename="package://assets/mf128zz_2.stl"/>
      </geometry>
    </collision>
    <!-- Part rx64_cap_2 -->
    <collision>
      <origin xyz="1.38778e-17 -5.55112e-17 -0.0467" rpy="-3.14159 2.35922e-16 -6.93889e-17"/>
      <geometry>
        <mesh filename="package://assets/rx64_cap_2.stl"/>
      </geometry>
    </collision>
    <!-- Part mf128zz_2_2 -->
    <collision>
      <origin xyz="0.02622 -4.58208e-05 -0.0235" rpy="2.22045e-16 2.52435e-29 -1.5708"/>
      <geometry>
        <mesh filename="package://assets/mf128zz_2.stl"/>
      </geometry>
    </collision>
    <!-- Part hn05_i101_2_2 -->
    <collision>
      <origin xyz="0.02994 -4.58208e-05 -0.0235" rpy="2.22045e-16 2.04415e-29 -1.5708"/>
      <geometry>
        <mesh filename="package://assets/hn05_i101_2.stl"/>
      </geometry>
    </collision>
    <!-- Part rx64_cap_2_2 -->
    <collision>
      <origin xyz="0.0297 -4.58208e-05 -0.0235" rpy="-1.5708 4.56851e-29 -1.5708"/>
      <geometry>
        <mesh filename="package://assets/rx64_cap_2.stl"/>
      </geometry>
    </collision>
    <!-- Part foot_right_4_parts -->
    <visual>
      <origin xyz="-0.0215978 -0.0144558 -0.0236219" rpy="1.5708 -1.5708 0"/>
      <geometry>
        <mesh filename="package://assets/merged/foot_right_4_visual.stl"/>
      </geometry>
      <material name="foot_right_4_parts_material">
        <color rgba="0.55972 0.560028 0.558638 1"/>
      </material>
    </visual>
  </link>
  <!-- Link foot_right_5 -->
  <link name="foot_right_5">
    <inertial>
      <origin xyz="-0.00431494 -0.027932 0.0410276" rpy="0 0 0"/>
      <mass value="0.132192"/>
      <inertia ixx="0.000177533" ixy="-1.91248e-06" ixz="5.63401e-06" iyy="0.000221544" iyz="8.6074e-07" izz="6.06598e-05"/>
    </inertial>
    <!-- Part pla_50__shoes -->
    <collision>
      <origin xyz="-0.04925 -0.032 0.10376" rpy="-2.27192e-28 -1.5708 0"/>
      <geometry>
        <mesh filename="package://assets/pla_50__shoes.stl"/>
      </geometry>
    </collision>
    <!-- Part almi_2mm_lower_leg -->
    <collision>
      <origin xyz="-0.00775 -0.032 0.02876" rpy="-3.14159 1.5708 0"/>
      <geometry>
        <mesh filename="package://assets/almi_2mm_lower_leg.stl"/>
      </geometry>
    </collision>
    <!-- Part stainless_steel_2mm_lower_leg_bracket -->
    <collision>
      <origin xyz="-0.016 -0.032 0.00052" rpy="-1.5708 -1.5708 0"/>
      <geometry>
        <mesh filename="package://assets/stainless_steel_2mm_lower_leg_bracket.stl"/>
      </geometry>
    </collision>
    <!-- Part foot_right_5_parts -->
    <visual>
      <origin xyz="-0.00431494 -0.027932 0.0410276" rpy="-1.5708 6.79439e-15 1.44754e-13"/>
      <geometry>
        <mesh filename="package://assets/merged/foot_right_5_visual.stl"/>
      </geometry>
      <material name="foot_right_5_parts_material">
        <color rgba="0.55972 0.560028 0.558638 1"/>
      </material>
    </visual>
  </link>
  <!-- Joint from foot_right_4 to foot_right_5 -->
  <joint name="right_ankle_roll" type="revolute">
    <origin xyz="-0.02558 4.44089e-15 -0.0235" rpy="-3.14159 -1.5708 0"/>
    <parent link="foot_right_4"/>
    <child link="foot_right_5"/>
    <axis xyz="0 0 1"/>
    <limit effort="6" velocity="6.6" lower="-1.0472" upper="1.0472"/>
    <joint_properties friction="0.1"/>
  </joint>
  <!-- Joint from foot_right_3 to foot_right_4 -->
  <joint name="right_ankle_pitch" type="revolute">
    <origin xyz="-1.10155e-16 0.111702 2.08167e-17" rpy="2.44616e-28 -1.44182e-29 -6.31382e-14"/>
    <parent link="foot_right_3"/>
    <child link="foot_right_4"/>
    <axis xyz="0 0 1"/>
    <limit effort="6" velocity="6.6" lower="-1.5708" upper="1.5708"/>
    <joint_properties friction="0.1"/>
  </joint>
  <!-- Joint from foot_right_2 to foot_right_3 -->
  <joint name="right_knee" type="revolute">
    <origin xyz="-6.16694e-16 0.134 4.16334e-17" rpy="2.08167e-16 7.21645e-16 1.53223e-14"/>
    <parent link="foot_right_2"/>
    <child link="foot_right_3"/>
    <axis xyz="0 0 1"/>
    <limit effort="6" velocity="6.6" lower="-2.35619" upper="2.35619"/>
    <joint_properties friction="0.1"/>
  </joint>
  <!-- Joint from foot_right_1 to foot_right_2 -->
  <joint name="right_hip_pitch" type="revolute">
    <origin xyz="0.0235 -4.68375e-17 0.02558" rpy="3.14159 -1.5708 0"/>
    <parent link="foot_right_1"/>
    <child link="foot_right_2"/>
    <axis xyz="0 0 1"/>
    <limit effort="6" velocity="6.6" lower="-1.9635" upper="1.1781"/>
    <joint_properties friction="0.1"/>
  </joint>
  <!-- Joint from stainless_steel_2mm_upper_leg_bracket to foot_right_1 -->
  <joint name="right_hip_roll" type="revolute">
    <origin xyz="-0.0335 3.55965e-14 -0.032" rpy="1.5708 -1.23013e-13 1.5708"/>
    <parent link="stainless_steel_2mm_upper_leg_bracket"/>
    <child link="foot_right_1"/>
    <axis xyz="0 0 1"/>
    <limit effort="6" velocity="6.6" lower="-0.785398" upper="1.5708"/>
    <joint_properties friction="0.1"/>
  </joint>
  <!-- Joint from torso_kidsize25 to stainless_steel_2mm_upper_leg_bracket -->
  <joint name="right_hip_yaw" type="revolute">
    <origin xyz="-0.0495 -0.0149172 0.0210065" rpy="-2.15281e-13 1.14304e-14 -1.5708"/>
    <parent link="torso_kidsize25"/>
    <child link="stainless_steel_2mm_upper_leg_bracket"/>
    <axis xyz="0 0 1"/>
    <limit effort="6" velocity="6.6" lower="-0.785398" upper="1.5708"/>
    <joint_properties friction="0.1"/>
  </joint>
  <!-- Link stainless_steel_2mm_upper_leg_bracket_mir -->
  <link name="stainless_steel_2mm_upper_leg_bracket_mir">
    <inertial>
      <origin xyz="-0.00421162 1.80642e-07 -0.00839045" rpy="0 0 0"/>
      <mass value="0.0521561"/>
      <inertia ixx="1.13163e-05" ixy="2.66522e-10" ixz="-2.03733e-07" iyy="2.97089e-05" iyz="-3.66542e-11" izz="2.98236e-05"/>
    </inertial>
    <!-- Part stainless_steel_2mm_upper_leg_bracket_mir -->
    <collision>
      <origin xyz="-0.03298 -0.016 0" rpy="0 -0 -1.80849e-31"/>
      <geometry>
        <mesh filename="package://assets/stainless_steel_2mm_upper_leg_bracket_mir.stl"/>
      </geometry>
    </collision>
    <!-- Part stainless_steel_2mm_upper_leg_bracket_mir_parts -->
    <visual>
      <origin xyz="-0.00421162 1.80642e-07 -0.00839045" rpy="-1.14304e-14 -2.1517e-13 1.5708"/>
      <geometry>
        <mesh filename="package://assets/merged/stainless_steel_2mm_upper_leg_bracket_mir_visual.stl"/>
      </geometry>
      <material name="stainless_steel_2mm_upper_leg_bracket_mir_parts_material">
        <color rgba="0.55972 0.560028 0.558638 1"/>
      </material>
    </visual>
  </link>
  <!-- Link foot_left_1 -->
  <link name="foot_left_1">
    <inertial>
      <origin xyz="-0.000121924 0.0144559 0.00398223" rpy="0 0 0"/>
      <mass value="0.292143"/>
      <inertia ixx="0.000302507" ixy="1.96526e-07" ixz="7.69256e-07" iyy="0.000262475" iyz="1.25975e-05" izz="0.000112946"/>
    </inertial>
    <!-- Part mx_64t_mir_1 -->
    <collision>
      <origin xyz="0 0 -0.0235" rpy="3.14159 -1.10898e-31 0"/>
      <geometry>
        <mesh filename="package://assets/mx_64t_mir_1.stl"/>
      </geometry>
    </collision>
    <!-- Part almi_2mm_fr05_f101k_set_mir -->
    <collision>
      <origin xyz="3.46945e-17 -3.1225e-17 0.04958" rpy="-1.5708 -0 -1.5708"/>
      <geometry>
        <mesh filename="package://assets/almi_2mm_fr05_f101k_set_mir.stl"/>
      </geometry>
    </collision>
    <!-- Part almi_2mm_connector_mx64_mir -->
    <collision>
      <origin xyz="-0.019 0.043 0.01058" rpy="3.14159 -0 1.5708"/>
      <geometry>
        <mesh filename="package://assets/almi_2mm_connector_mx64_mir.stl"/>
      </geometry>
    </collision>
    <!-- Part fr05_f101k_set_mir -->
    <collision>
      <origin xyz="-2.15106e-16 4.58208e-05 0.04958" rpy="3.14159 -0 1.5708"/>
      <geometry>
        <mesh filename="package://assets/fr05_f101k_set_mir.stl"/>
      </geometry>
    </collision>
    <!-- Part almi_2mm_connector_mx64_mir_2 -->
    <collision>
      <origin xyz="0.019 0.015 0.01058" rpy="-3.14159 -2.46598e-27 -1.5708"/>
      <geometry>
        <mesh filename="package://assets/almi_2mm_connector_mx64_mir.stl"/>
      </geometry>
    </collision>
    <!-- Part mx_64t_mir_1_2 -->
    <collision>
      <origin xyz="2.77556e-17 -3.29597e-17 0.02558" rpy="-3.14159 1.5708 0"/>
      <geometry>
        <mesh filename="package://assets/mx_64t_mir_1.stl"/>
      </geometry>
    </collision>
    <!-- Part mf128zz_mir_1 -->
    <collision>
      <origin xyz="-2.28983e-16 4.58208e-05 0.0518" rpy="1.5708 5.02953e-30 -1.5708"/>
      <geometry>
        <mesh filename="package://assets/mf128zz_mir_1.stl"/>
      </geometry>
    </collision>
    <!-- Part hn05_i101_mir_1 -->
    <collision>
      <origin xyz="-2.22045e-16 4.58208e-05 0.05552" rpy="1.5708 -0 -1.5708"/>
      <geometry>
        <mesh filename="package://assets/hn05_i101_mir_1.stl"/>
      </geometry>
    </collision>
    <!-- Part rx64_cap_mir_1 -->
    <collision>
      <origin xyz="-2.22045e-16 4.58208e-05 0.05528" rpy="-3.14159 6.31089e-30 -1.5708"/>
      <geometry>
        <mesh filename="package://assets/rx64_cap_mir_1.stl"/>
      </geometry>
    </collision>
    <!-- Part rx64_cap_mir_1_2 -->
    <collision>
      <origin xyz="-0.0232 1.73472e-18 0.02558" rpy="1.5708 7.59225e-30 1.5708"/>
      <geometry>
        <mesh filename="package://assets/rx64_cap_mir_1.stl"/>
      </geometry>
    </collision>
    <!-- Part hn05_i101_mir_1_2 -->
    <collision>
      <origin xyz="-0.02344 8.67362e-18 0.02558" rpy="-1.11022e-16 -0 1.5708"/>
      <geometry>
        <mesh filename="package://assets/hn05_i101_mir_1.stl"/>
      </geometry>
    </collision>
    <!-- Part mf128zz_mir_1_2 -->
    <collision>
      <origin xyz="-0.01972 1.9082e-17 0.02558" rpy="-1.11022e-16 -0 1.5708"/>
      <geometry>
        <mesh filename="package://assets/mf128zz_mir_1.stl"/>
      </geometry>
    </collision>
    <!-- Part foot_left_1_parts -->
    <visual>
      <origin xyz="-0.000121924 0.0144559 0.00398223" rpy="-1.5708 5.79519e-15 -3.14159"/>
      <geometry>
        <mesh filename="package://assets/merged/foot_left_1_visual.stl"/>
      </geometry>
      <material name="foot_left_1_parts_material">
        <color rgba="0.55972 0.560028 0.558638 1"/>
      </material>
    </visual>
  </link>
  <!-- Link foot_left_2 -->
  <link name="foot_left_2">
    <inertial>
      <origin xyz="0.00189202 0.0890217 0.0236304" rpy="0 0 0"/>
      <mass value="0.273181"/>
      <inertia ixx="0.00054925" ixy="3.23354e-06" ixz="6.73963e-08" iyy="0.000131243" iyz="-8.86436e-07" izz="0.000472641"/>
    </inertial>
    <!-- Part mx_64t_mir -->
    <collision>
      <origin xyz="-6.32307e-16 0.134 0.0235" rpy="-1.32407e-28 3.8896e-30 -8.5197e-29"/>
      <geometry>
        <mesh filename="package://assets/mx_64t_mir.stl"/>
      </geometry>
    </collision>
    <!-- Part stainless_steel_2mm__femur_mir -->
    <collision>
      <origin xyz="-0.014 0.07746 0.047" rpy="1.5708 7.34157e-31 -9.78188e-29"/>
      <geometry>
        <mesh filename="package://assets/stainless_steel_2mm__femur_mir.stl"/>
      </geometry>
    </collision>
    <!-- Part stainless_steel_2mm__femur_mir_2 -->
    <collision>
      <origin xyz="-0.014 0.07746 -0.003" rpy="1.5708 -5.47038e-32 0"/>
      <geometry>
        <mesh filename="package://assets/stainless_steel_2mm__femur_mir.stl"/>
      </geometry>
    </collision>
    <!-- Part almi_6_5mm_l_mx64_mir -->
    <collision>
      <origin xyz="-0.0134121 0.0859 0.0065" rpy="-1.5708 5.47038e-32 3.14159"/>
      <geometry>
        <mesh filename="package://assets/almi_6_5mm_l_mx64_mir.stl"/>
      </geometry>
    </collision>
    <!-- Part almi_6_5mm_l_mx64_mir_2 -->
    <collision>
      <origin xyz="-0.0134121 0.0859 0.047" rpy="-1.5708 5.47038e-32 3.14159"/>
      <geometry>
        <mesh filename="package://assets/almi_6_5mm_l_mx64_mir.stl"/>
      </geometry>
    </collision>
    <!-- Part hn05_i101_mir -->
    <collision>
      <origin xyz="-6.54858e-16 0.134 0.04694" rpy="1.5708 1.20028e-28 1.5708"/>
      <geometry>
        <mesh filename="package://assets/hn05_i101_mir.stl"/>
      </geometry>
    </collision>
    <!-- Part rx64_cap_mir -->
    <collision>
      <origin xyz="-6.21898e-16 0.134 0.0467" rpy="3.14159 1.1038e-28 1.5708"/>
      <geometry>
        <mesh filename="package://assets/rx64_cap_mir.stl"/>
      </geometry>
    </collision>
    <!-- Part mf128zz_mir -->
    <collision>
      <origin xyz="-6.34041e-16 0.134 0.04322" rpy="1.5708 1.26218e-28 1.5708"/>
      <geometry>
        <mesh filename="package://assets/mf128zz_mir.stl"/>
      </geometry>
    </collision>
    <!-- Part foot_left_2_parts -->
    <visual>
      <origin xyz="0.00189202 0.0890217 0.0236304" rpy="1.5708 -1.5708 0"/>
      <geometry>
        <mesh filename="package://assets/merged/foot_left_2_visual.stl"/>
      </geometry>
      <material name="foot_left_2_parts_material">
        <color rgba="0.55972 0.560028 0.558638 1"/>
      </material>
    </visual>
  </link>
  <!-- Link foot_left_3 -->
  <link name="foot_left_3">
    <inertial>
      <origin xyz="0.00350206 0.0535427 0.0235017" rpy="0 0 0"/>
      <mass value="0.157154"/>
      <inertia ixx="0.000266743" ixy="8.33375e-06" ixz="-5.26492e-09" iyy="0.000115972" iyz="6.48605e-09" izz="0.000200186"/>
    </inertial>
    <!-- Part stainless_steel_2mm_shinebone_mir -->
    <collision>
      <origin xyz="0.0135 0.0197269 0.05" rpy="-1.5708 4.44089e-16 6.31089e-30"/>
      <geometry>
        <mesh filename="package://assets/stainless_steel_2mm_shinebone_mir.stl"/>
      </geometry>
    </collision>
    <!-- Part stainless_steel_2mm_leg_spacer_mir -->
    <collision>
      <origin xyz="0.024 0.0190814 0.045" rpy="-1.11022e-16 -0 1.5708"/>
      <geometry>
        <mesh filename="package://assets/stainless_steel_2mm_leg_spacer_mir.stl"/>
      </geometry>
    </collision>
    <!-- Part stainless_steel_2mm_shinebone_mir_2 -->
    <collision>
      <origin xyz="0.0135 0.0197269 0" rpy="-1.5708 3.51852e-31 0"/>
      <geometry>
        <mesh filename="package://assets/stainless_steel_2mm_shinebone_mir.stl"/>
      </geometry>
    </collision>
    <!-- Part foot_left_3_parts -->
    <visual>
      <origin xyz="0.00350206 0.0535427 0.0235017" rpy="1.5708 -1.5708 0"/>
      <geometry>
        <mesh filename="package://assets/merged/foot_left_3_visual.stl"/>
      </geometry>
      <material name="foot_left_3_parts_material">
        <color rgba="0.55972 0.560028 0.558638 1"/>
      </material>
    </visual>
  </link>
  <!-- Link foot_left_4 -->
  <link name="foot_left_4">
    <inertial>
      <origin xyz="-0.0215978 -0.0144559 0.0236219" rpy="0 0 0"/>
      <mass value="0.292143"/>
      <inertia ixx="0.000112946" ixy="-1.25975e-05" ixz="-7.69402e-07" iyy="0.000262475" iyz="2.05066e-07" izz="0.000302507"/>
    </inertial>
    <!-- Part mx_64t_mir_2 -->
    <collision>
      <origin xyz="-0.04908 0 0.0235" rpy="-2.60098e-29 -1.5708 0"/>
      <geometry>
        <mesh filename="package://assets/mx_64t_mir_2.stl"/>
      </geometry>
    </collision>
    <!-- Part almi_2mm_connector_mx64_mir_1 -->
    <collision>
      <origin xyz="-0.015 -0.015 0.0425" rpy="-1.5708 -0 1.5708"/>
      <geometry>
        <mesh filename="package://assets/almi_2mm_connector_mx64_mir_1.stl"/>
      </geometry>
    </collision>
    <!-- Part fr05_f101k_set_mir_1 -->
    <collision>
      <origin xyz="0.024 -4.58208e-05 0.0235" rpy="1.5708 2.22045e-16 -1.5708"/>
      <geometry>
        <mesh filename="package://assets/fr05_f101k_set_mir_1.stl"/>
      </geometry>
    </collision>
    <!-- Part mx_64t_mir_2_2 -->
    <collision>
      <origin xyz="0 0 0.0235" rpy="6.18963e-30 1.99604e-31 -7.66209e-31"/>
      <geometry>
        <mesh filename="package://assets/mx_64t_mir_2.stl"/>
      </geometry>
    </collision>
    <!-- Part almi_2mm_fr05_f101k_set_mir_1 -->
    <collision>
      <origin xyz="0.024 5.55112e-17 0.0235" rpy="-2.22045e-16 -2.22045e-16 1.5708"/>
      <geometry>
        <mesh filename="package://assets/almi_2mm_fr05_f101k_set_mir_1.stl"/>
      </geometry>
    </collision>
    <!-- Part almi_2mm_connector_mx64_mir_1_2 -->
    <collision>
      <origin xyz="-0.015 -0.043 0.0045" rpy="1.5708 4.2914e-28 -1.5708"/>
      <geometry>
        <mesh filename="package://assets/almi_2mm_connector_mx64_mir_1.stl"/>
      </geometry>
    </collision>
    <!-- Part hn05_i101_mir_2 -->
    <collision>
      <origin xyz="5.20417e-18 0 0.04694" rpy="1.5708 9.88465e-31 -7.66209e-31"/>
      <geometry>
        <mesh filename="package://assets/hn05_i101_mir_2.stl"/>
      </geometry>
    </collision>
    <!-- Part mf128zz_mir_2 -->
    <collision>
      <origin xyz="2.60209e-17 0 0.04322" rpy="1.5708 1.77733e-30 -7.66209e-31"/>
      <geometry>
        <mesh filename="package://assets/mf128zz_mir_2.stl"/>
      </geometry>
    </collision>
    <!-- Part rx64_cap_mir_2 -->
    <collision>
      <origin xyz="1.04083e-17 0 0.0467" rpy="-3.14159 1.99604e-31 -7.66209e-31"/>
      <geometry>
        <mesh filename="package://assets/rx64_cap_mir_2.stl"/>
      </geometry>
    </collision>
    <!-- Part mf128zz_mir_2_2 -->
    <collision>
      <origin xyz="0.02622 -4.58208e-05 0.0235" rpy="2.22045e-16 2.22045e-16 -1.5708"/>
      <geometry>
        <mesh filename="package://assets/mf128zz_mir_2.stl"/>
      </geometry>
    </collision>
    <!-- Part hn05_i101_mir_2_2 -->
    <collision>
      <origin xyz="0.02994 -4.58208e-05 0.0235" rpy="2.22045e-16 2.22045e-16 -1.5708"/>
      <geometry>
        <mesh filename="package://assets/hn05_i101_mir_2.stl"/>
      </geometry>
    </collision>
    <!-- Part rx64_cap_mir_2_2 -->
    <collision>
      <origin xyz="0.0297 -4.58208e-05 0.0235" rpy="1.5708 2.22045e-16 -1.5708"/>
      <geometry>
        <mesh filename="package://assets/rx64_cap_mir_2.stl"/>
      </geometry>
    </collision>
    <!-- Part foot_left_4_parts -->
    <visual>
      <origin xyz="-0.0215978 -0.0144559 0.0236219" rpy="1.5708 -1.5708 0"/>
      <geometry>
        <mesh filename="package://assets/merged/foot_left_4_visual.stl"/>
      </geometry>
      <material name="foot_left_4_parts_material">
        <color rgba="0.55972 0.560028 0.558638 1"/>
      </material>
    </visual>
  </link>
  <!-- Link foot_left_5 -->
  <link name="foot_left_5">
    <inertial>
      <origin xyz="-0.00577513 0.0300863 0.0389132" rpy="0 0 0"/>
      <mass value="0.229936"/>
      <inertia ixx="0.000336096" ixy="2.89074e-06" ixz="4.67383e-06" iyy="0.000437543" iyz="5.55837e-07" izz="0.000121048"/>
    </inertial>
    <!-- Part almi_2mm_lower_leg_mir -->
    <collision>
      <origin xyz="-0.00775 0.032 0.02876" rpy="-5.55112e-16 1.5708 0"/>
      <geometry>
        <mesh filename="package://assets/almi_2mm_lower_leg_mir.stl"/>
      </geometry>
    </collision>
    <!-- Part stainless_steel_2mm_lower_leg_bracket_mir -->
    <collision>
      <origin xyz="-0.016 0.032 0.00052" rpy="-1.5708 -1.5708 0"/>
      <geometry>
        <mesh filename="package://assets/stainless_steel_2mm_lower_leg_bracket_mir.stl"/>
      </geometry>
    </collision>
    <!-- Part pla_50__shoes_mir -->
    <collision>
      <origin xyz="-0.04925 0.032 0.10376" rpy="-3.14159 -1.5708 0"/>
      <geometry>
        <mesh filename="package://assets/pla_50__shoes_mir.stl"/>
      </geometry>
    </collision>
    <!-- Part foot_left_5_parts -->
    <visual>
      <origin xyz="-0.00577513 0.0300863 0.0389132" rpy="-1.5708 5.68417e-15 -3.14159"/>
      <geometry>
        <mesh filename="package://assets/merged/foot_left_5_visual.stl"/>
      </geometry>
      <material name="foot_left_5_parts_material">
        <color rgba="0.55972 0.560028 0.558638 1"/>
      </material>
    </visual>
  </link>
  <!-- Joint from foot_left_4 to foot_left_5 -->
  <joint name="left_ankle_roll" type="revolute">
    <origin xyz="-0.02558 0 0.0235" rpy="1.96989e-29 1.5708 0"/>
    <parent link="foot_left_4"/>
    <child link="foot_left_5"/>
    <axis xyz="0 0 1"/>
    <limit effort="6" velocity="6.6" lower="-1.0472" upper="1.0472"/>
    <joint_properties friction="0.1"/>
  </joint>
  <!-- Joint from foot_left_3 to foot_left_4 -->
  <joint name="left_ankle_pitch" type="revolute">
    <origin xyz="-8.67362e-17 0.111702 6.59195e-17" rpy="-4.35572e-28 3.35505e-30 1.16573e-15"/>
    <parent link="foot_left_3"/>
    <child link="foot_left_4"/>
    <axis xyz="0 0 1"/>
    <limit effort="6" velocity="6.6" lower="-1.5708" upper="1.5708"/>
    <joint_properties friction="0.1"/>
  </joint>
  <!-- Joint from foot_left_2 to foot_left_3 -->
  <joint name="left_knee" type="revolute">
    <origin xyz="-6.42715e-16 0.134 -4.16334e-17" rpy="-1.26218e-29 3.51852e-31 6.52256e-15"/>
    <parent link="foot_left_2"/>
    <child link="foot_left_3"/>
    <axis xyz="0 0 1"/>
    <limit effort="6" velocity="6.6" lower="-2.35619" upper="2.35619"/>
    <joint_properties friction="0.1"/>
  </joint>
  <!-- Joint from foot_left_1 to foot_left_2 -->
  <joint name="left_hip_pitch" type="revolute">
    <origin xyz="0.0235 2.60209e-17 0.02558" rpy="-1.11022e-16 -1.5708 0"/>
    <parent link="foot_left_1"/>
    <child link="foot_left_2"/>
    <axis xyz="0 0 1"/>
    <limit effort="6" velocity="6.6" lower="-1.9635" upper="1.1781"/>
    <joint_properties friction="0.1"/>
  </joint>
  <!-- Joint from stainless_steel_2mm_upper_leg_bracket_mir to foot_left_1 -->
  <joint name="left_hip_roll" type="revolute">
    <origin xyz="-0.0335 -3.56451e-14 -0.032" rpy="-1.5708 1.30562e-13 -1.5708"/>
    <parent link="stainless_steel_2mm_upper_leg_bracket_mir"/>
    <child link="foot_left_1"/>
    <axis xyz="0 0 1"/>
    <limit effort="6" velocity="6.6" lower="-1.5708" upper="0.785398"/>
    <joint_properties friction="0.1"/>
  </joint>
  <!-- Joint from torso_kidsize25 to stainless_steel_2mm_upper_leg_bracket_mir -->
  <joint name="left_hip_yaw" type="revolute">
    <origin xyz="0.0495 -0.0149156 0.0210065" rpy="-2.1517e-13 1.14304e-14 -1.5708"/>
    <parent link="torso_kidsize25"/>
    <child link="stainless_steel_2mm_upper_leg_bracket_mir"/>
    <axis xyz="0 0 1"/>
    <limit effort="6" velocity="6.6" lower="-1.5708" upper="0.785398"/>
    <joint_properties friction="0.1"/>
  </joint>
</robot>
